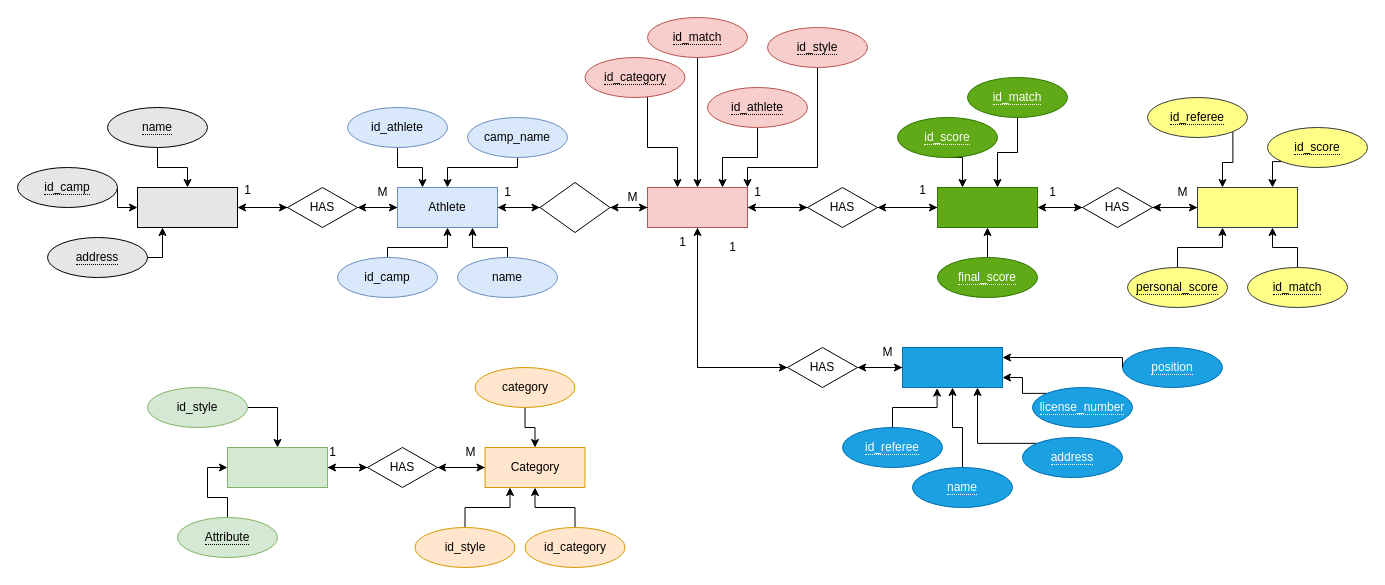
This 1385x585 diagram has some shape labels left out. The centre of each missing label's shape, as x and y in pixels:
"calculation" belongs at (x=1247, y=207).
"Camp" belongs at (x=187, y=207).
"CAN ATTEND" belongs at (x=574, y=207).
"match" belongs at (x=697, y=207).
"Referee" belongs at (x=952, y=367).
"score" belongs at (x=987, y=207).
"Style" belongs at (x=277, y=467).
